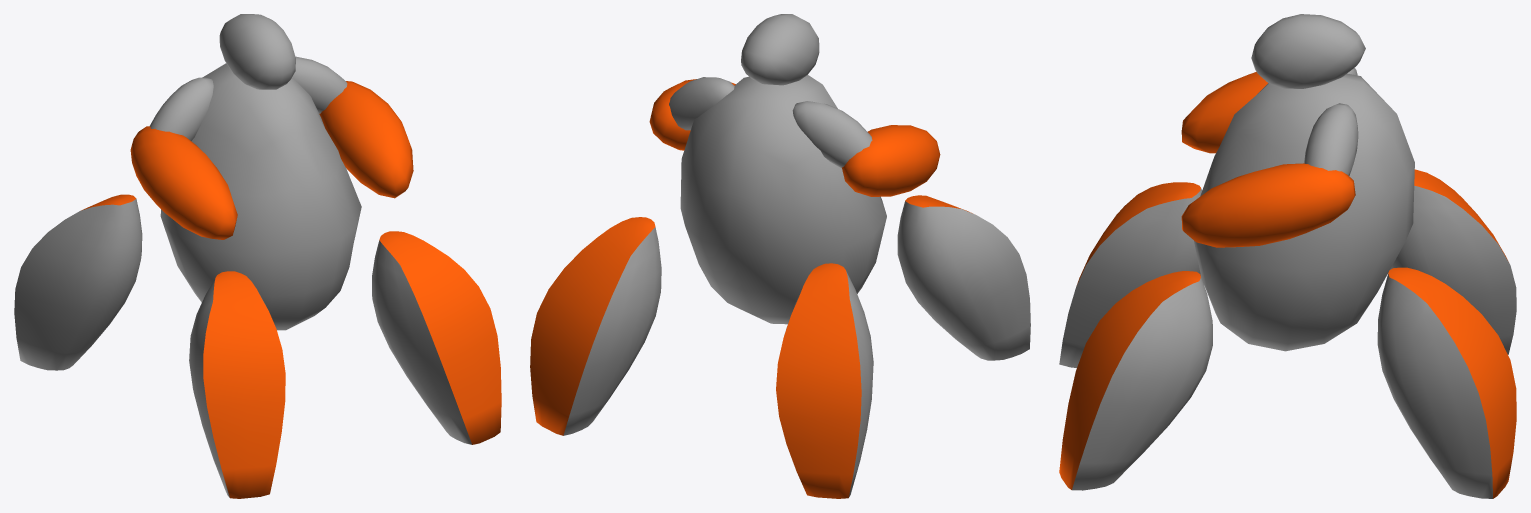
Rendered from BuillderBlockout.fbx.
3 renders of one model, left to right at view 1: azimuth 30°, elevation 25°; view 2: azimuth 150°, elevation 25°; view 3: azimuth 270°, elevation 25°, orthographic. The views are drawn at different scales.
Visible parts, largest first — view 1: Cube.001, Cube, Cube.003, Cube.002, Cube.004; view 2: Cube.001, Cube, Cube.003, Cube.004, Cube.002; view 3: Cube.001, Cube, Cube.003, Cube.002, Cube.004.
Part boxes in pixels (x1,y1,x2,y2): Cube.001: (14, 194, 501, 498); Cube: (160, 63, 361, 330); Cube.003: (130, 81, 413, 239); Cube.002: (219, 14, 295, 89); Cube.004: (150, 56, 347, 140); Cube.001: (530, 195, 1030, 498); Cube: (680, 75, 886, 324); Cube.003: (649, 79, 940, 196); Cube.004: (669, 77, 872, 168); Cube.002: (741, 14, 819, 85); Cube.001: (1059, 169, 1516, 498); Cube: (1194, 73, 1414, 351); Cube.003: (1181, 72, 1355, 247); Cube.002: (1251, 14, 1365, 88); Cube.004: (1304, 68, 1358, 175).
Size of the model in its own units: 211 by 239 by 234.
